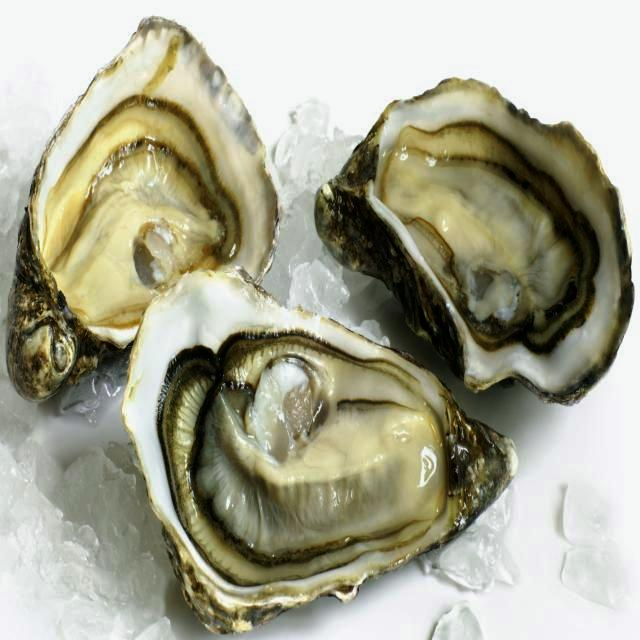Oyster-Open: (122, 269, 517, 636), (314, 78, 634, 406), (9, 42, 279, 394)
